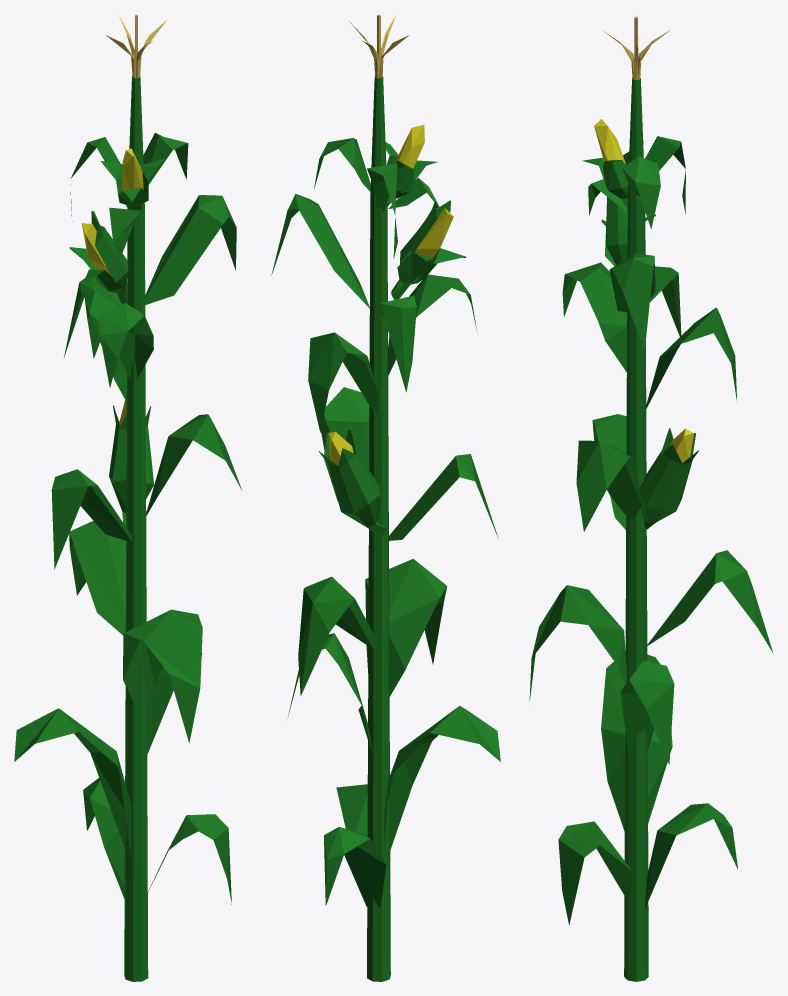
The model's file is milhoOti1.fbx.
3 renders of one model, left to right at view 1: azimuth 30°, elevation 25°; view 2: azimuth 150°, elevation 25°; view 3: azimuth 270°, elevation 25°, orthographic.
Parts seen in each view (by area): view 1: FolhaMilho.035, Cylinder, milho.010, milho.012, milho.001, Cylinder.004; view 2: FolhaMilho.035, Cylinder, milho.012, milho.010, milho.001, Cylinder.004; view 3: FolhaMilho.035, Cylinder, milho.012, milho.001, milho.010, Cylinder.004.
Boxes of the visible parts, x1,y1,x2,y2 form: FolhaMilho.035: (14,133,242,904); Cylinder: (124,76,148,981); milho.010: (69,211,128,304); milho.012: (109,400,154,526); milho.001: (100,148,164,210); Cylinder.004: (106,14,166,78); FolhaMilho.035: (271,138,500,908); Cylinder: (367,76,390,981); milho.012: (318,429,385,536); milho.010: (391,200,465,299); milho.001: (385,125,437,206); Cylinder.004: (349,14,409,78); FolhaMilho.035: (529,136,772,925); Cylinder: (624,78,648,981); milho.012: (639,428,698,529); milho.001: (582,119,643,209); milho.010: (601,197,655,266); Cylinder.004: (602,15,669,80).
Bounding box in the file's own units: 96.57 × 393 × 90.61.
